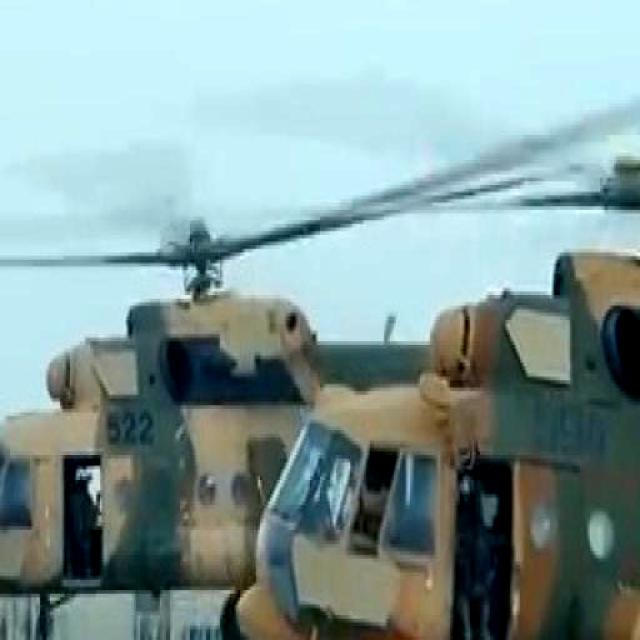drone: (266, 132, 640, 640), (0, 212, 305, 640)
